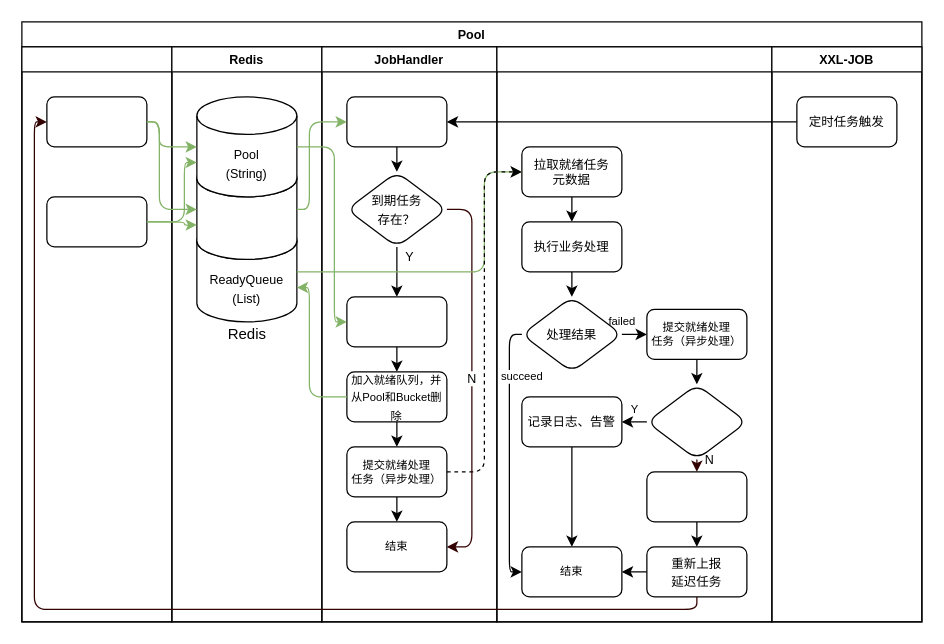
The diagram is 944 pixels wide and 644 high, and some of its shapes have lost their labels. Each missing label, with the box of its shape:
Bucket (ZSet): (196, 158, 297, 259)
retryTimes 是否达到 重试上限: (646, 383, 747, 459)
Service: (21, 46, 172, 622)
ThreadPool: (496, 46, 772, 622)
tryTimes++; delay += ttr;: (646, 471, 747, 522)
延迟任务上报: (46, 96, 147, 147)
延迟任务删除: (46, 196, 147, 247)
拉取任务元数据: (346, 296, 447, 347)
按到期时间正序 拉取到期任务key: (346, 96, 447, 147)
